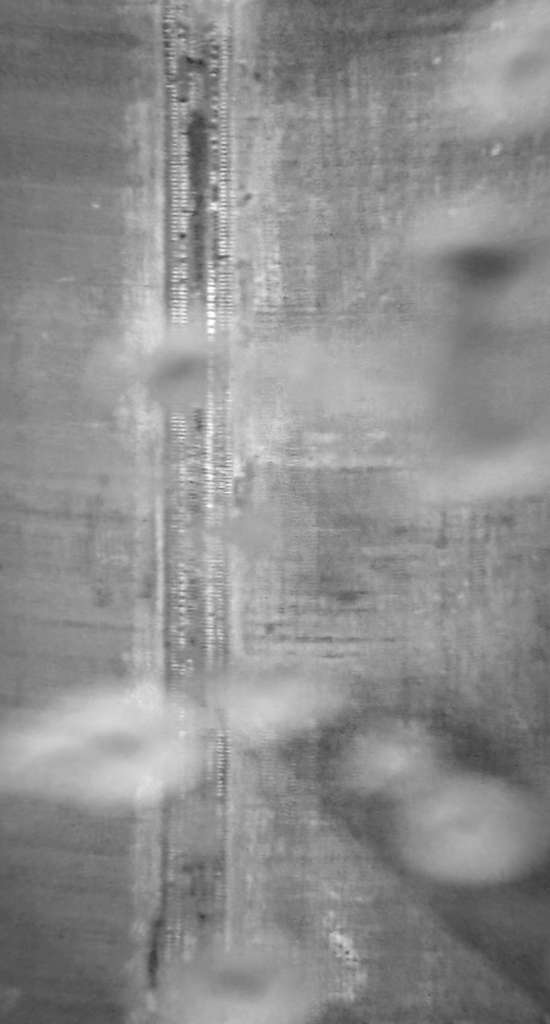splice: (144, 1, 239, 1024)
